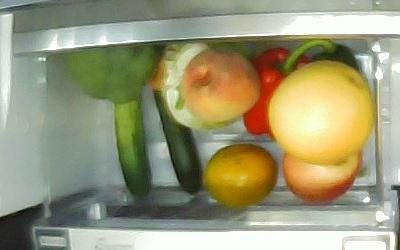apple: (281, 149, 362, 204)
broccoli: (63, 41, 158, 104)
cucumber: (148, 45, 202, 198), (113, 92, 153, 198)
grapefruit: (268, 59, 373, 165)
lettuce: (150, 45, 253, 131)
paprika: (244, 45, 338, 143)
peach: (182, 50, 260, 124)
persimmon: (204, 144, 278, 208)
